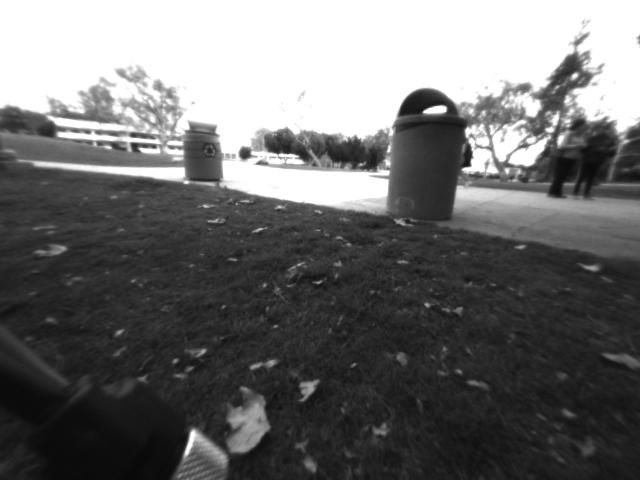trashcan: (384, 86, 463, 225)
